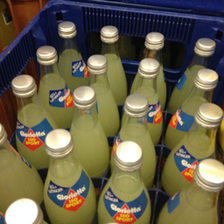soda: (159, 101, 224, 192), (44, 128, 98, 224), (155, 153, 223, 224), (10, 73, 56, 167), (99, 138, 148, 224), (1, 123, 45, 211), (113, 93, 156, 183), (68, 87, 110, 172)
